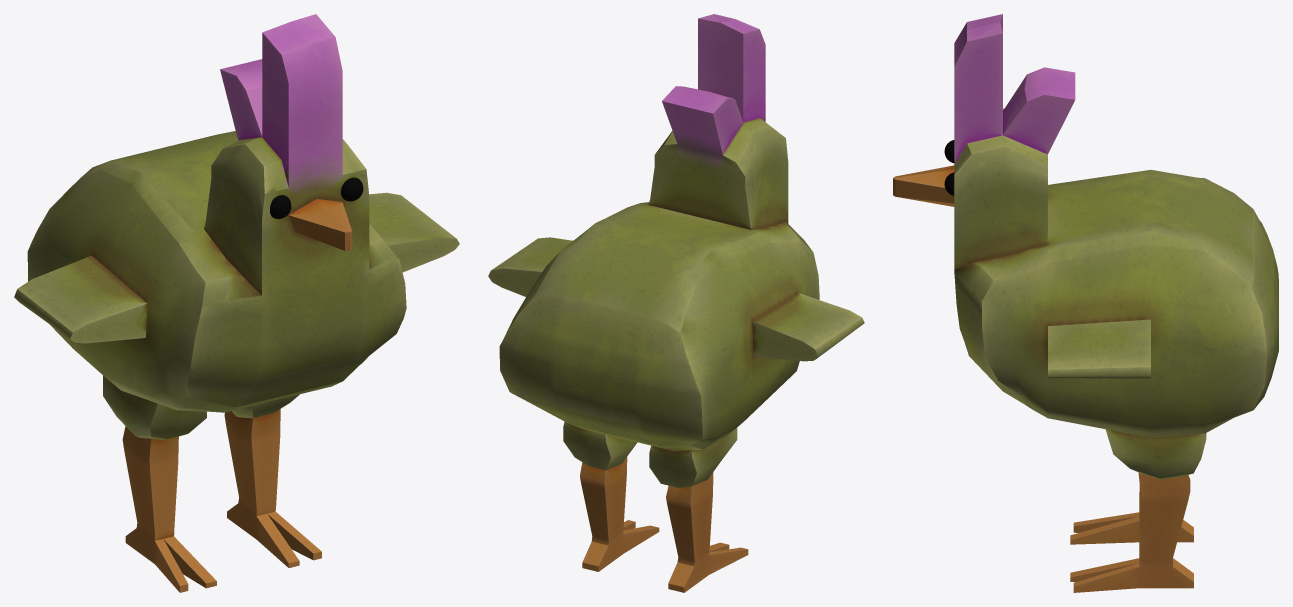
Rendered from Forest_Enemy_Textured.fbx.
3 views of the same model, side by side, from view 1: azimuth 30°, elevation 25°; view 2: azimuth 150°, elevation 25°; view 3: azimuth 270°, elevation 25° (orthographic). The views are drawn at different scales.
Visible parts, largest first — view 1: polySurface1; view 2: polySurface1; view 3: polySurface1.
Part boxes in pixels (box(x1,y1,x2,y2)): polySurface1: box(14, 14, 459, 592); polySurface1: box(488, 14, 864, 592); polySurface1: box(893, 14, 1278, 592).
Size of the model in its own units: 2.41 by 3.44 by 2.23.
1 material, 1 textured.
